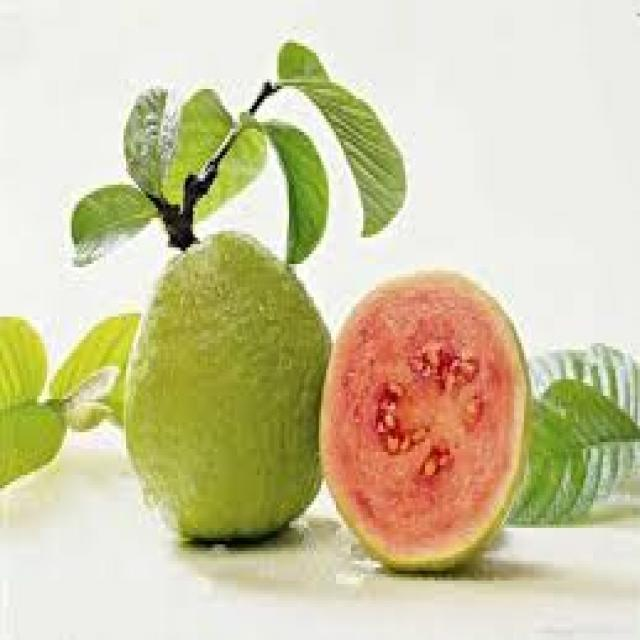organic waste: (314, 264, 529, 574), (124, 224, 331, 541), (277, 27, 410, 235), (524, 376, 637, 544), (173, 86, 264, 214), (257, 115, 331, 264), (0, 313, 64, 485), (50, 314, 128, 436), (534, 340, 638, 416), (69, 182, 166, 260), (121, 79, 180, 195), (62, 363, 116, 432)
